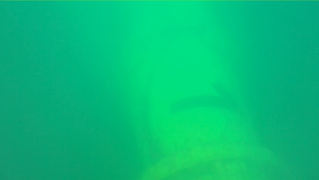1: (169, 83, 241, 115)
pipe: (100, 1, 294, 179)
